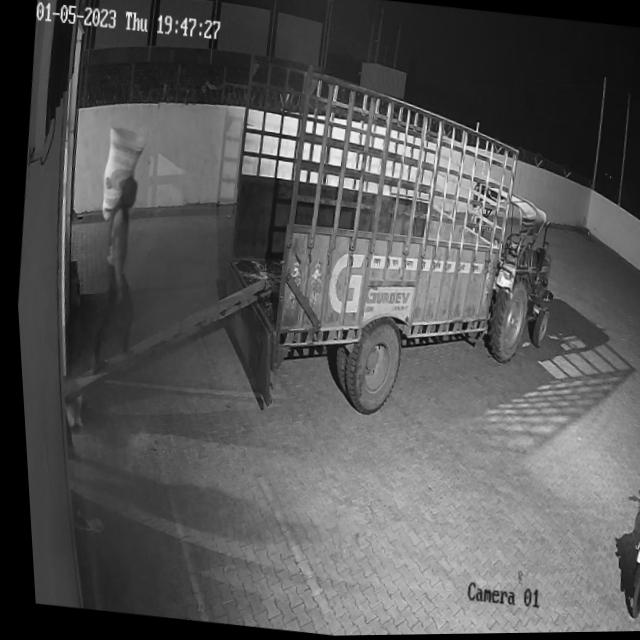sack: (92, 124, 148, 227)
